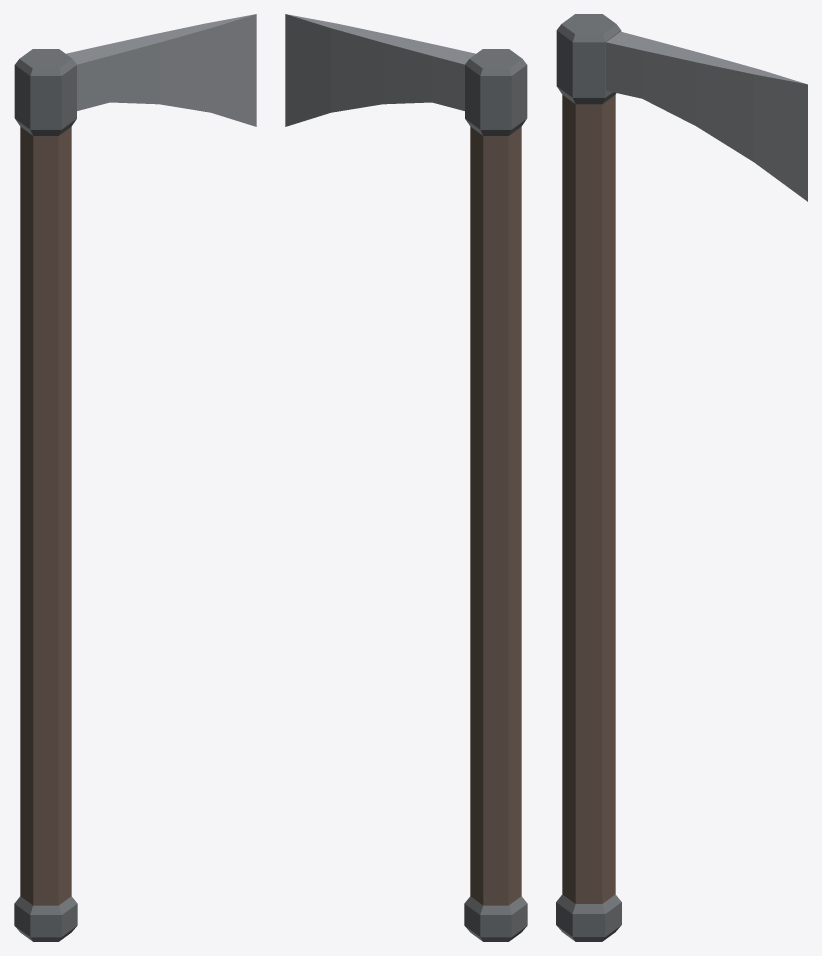
File: Poleaxe.003.fbx
3 renders of one model, left to right at view 1: azimuth 30°, elevation 25°; view 2: azimuth 150°, elevation 25°; view 3: azimuth 330°, elevation 25°, orthographic. The views are drawn at different scales.
Parts seen in each view (by area): view 1: Poleaxe.003; view 2: Poleaxe.003; view 3: Poleaxe.003.
Part boxes in pixels (bbox=[...]): Poleaxe.003: bbox=[14, 14, 256, 941]; Poleaxe.003: bbox=[285, 14, 527, 941]; Poleaxe.003: bbox=[556, 14, 807, 941].
Size of the model in its own units: 13.97 by 49.78 by 3.27.
